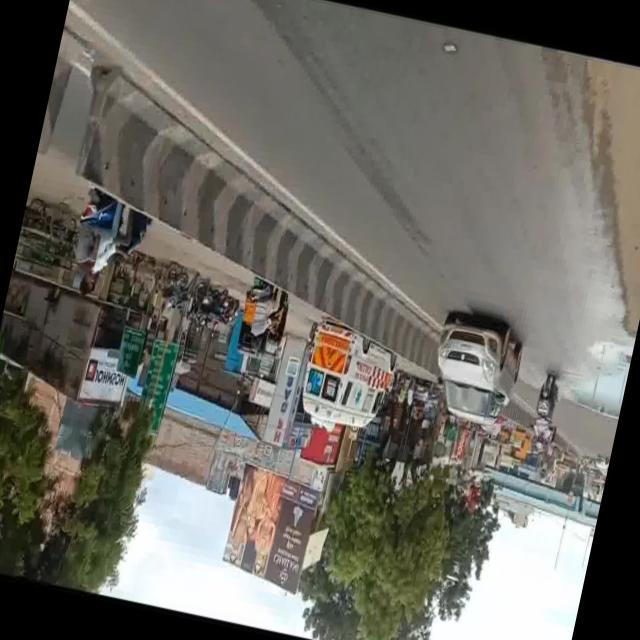ambulance: (295, 298, 411, 442)
